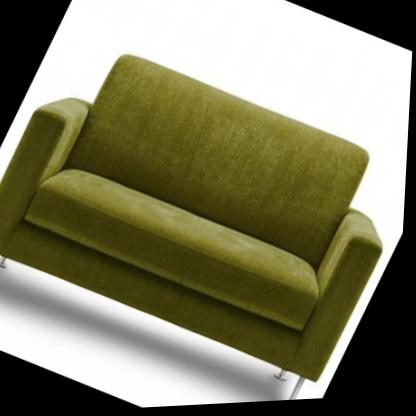Sofa: (0, 13, 415, 416)
